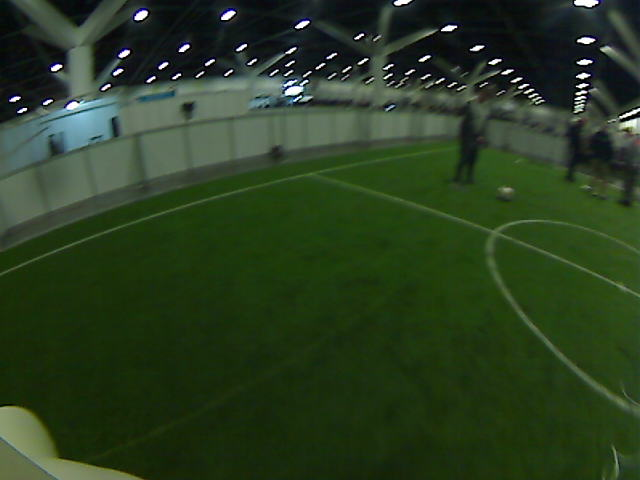ball: (493, 182, 514, 202)
goalpost: (552, 123, 565, 167)
